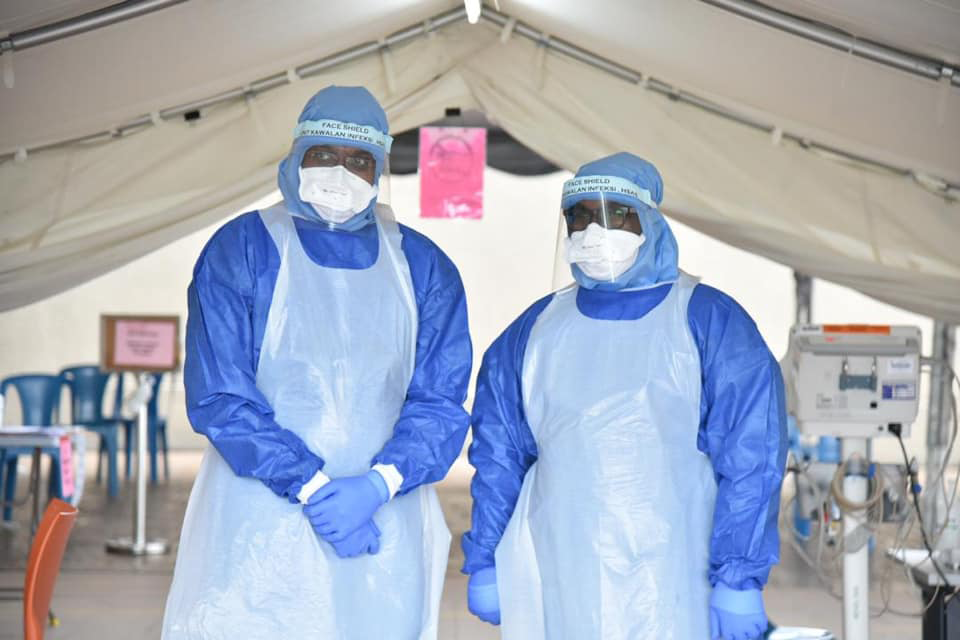Coverall: (186, 82, 466, 640), (474, 159, 783, 591)
Gloves: (296, 465, 389, 537), (705, 583, 783, 640), (463, 562, 515, 627)
with_mask: (296, 151, 377, 231), (568, 213, 653, 280)
